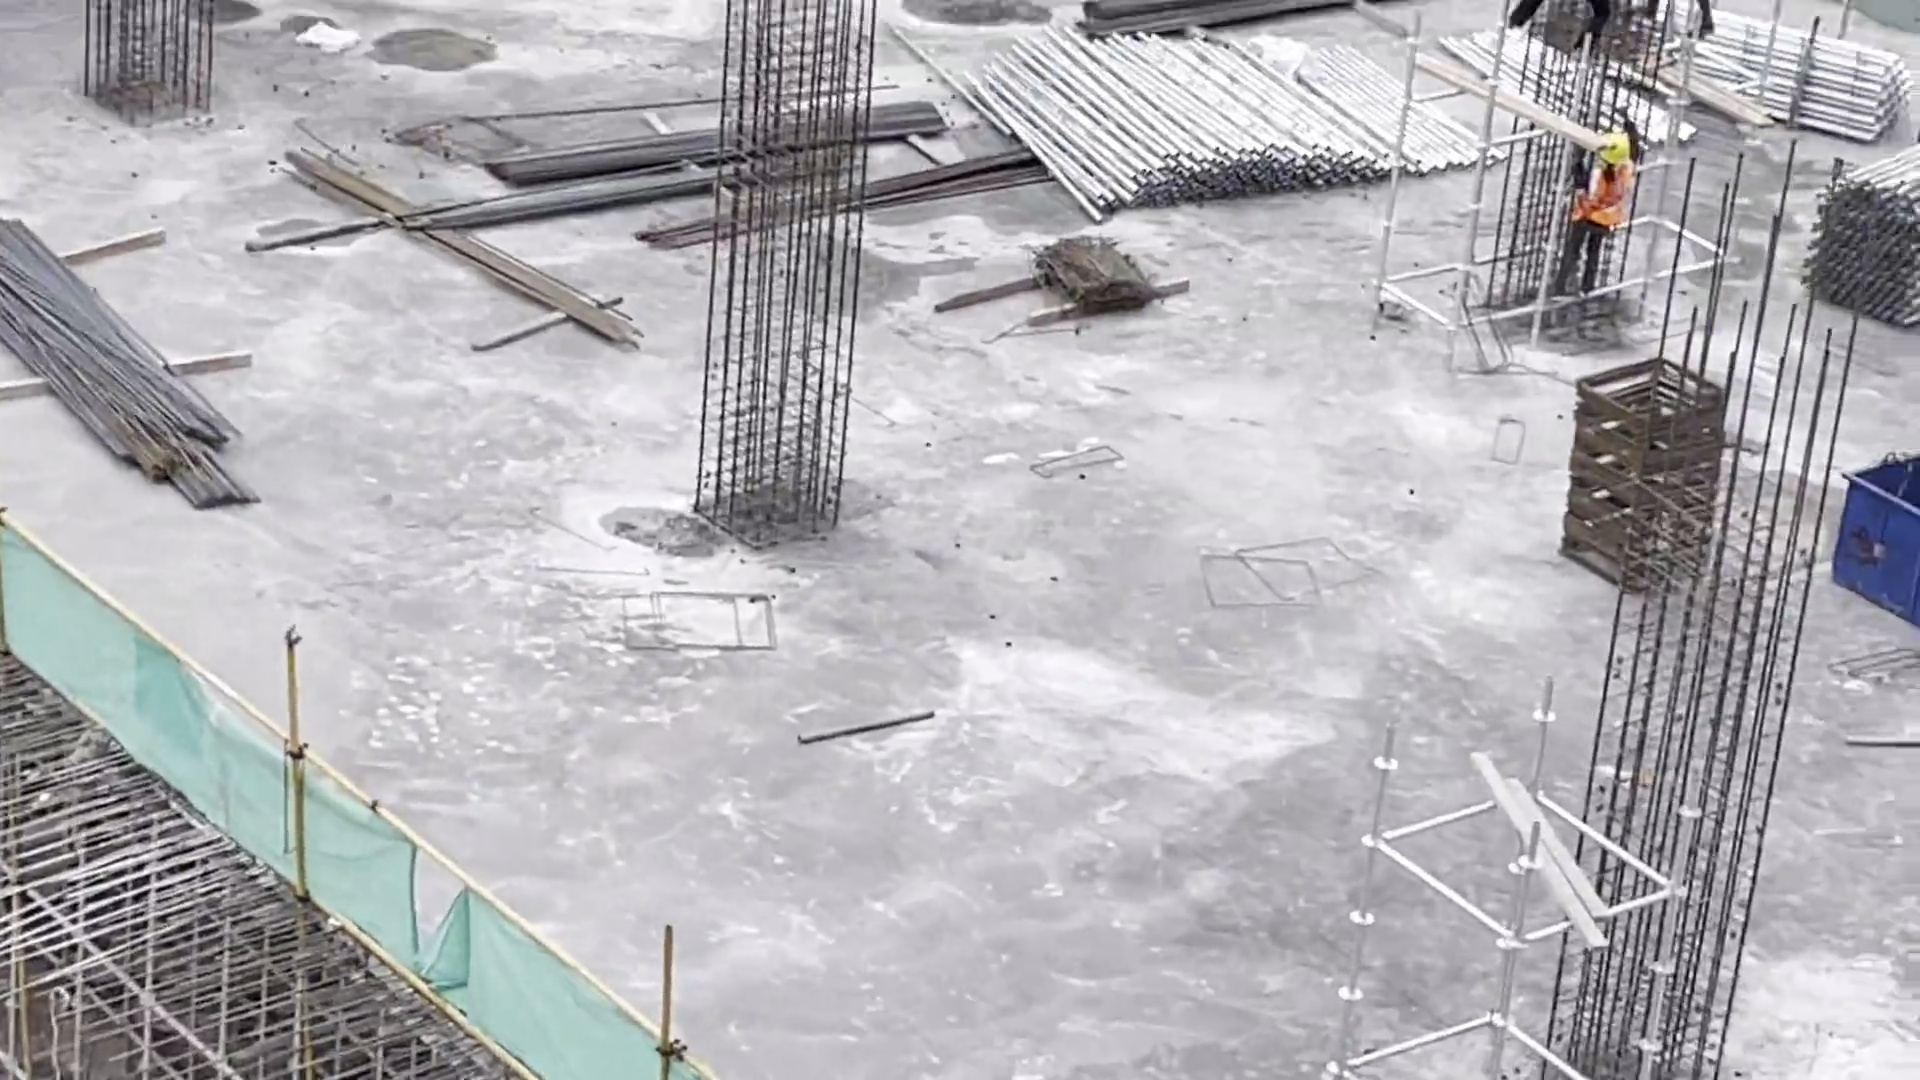helmet: (1593, 139, 1636, 163)
hopper: (1834, 458, 1920, 631)
person: (1574, 134, 1630, 287)
rebar: (1, 209, 259, 514), (473, 93, 975, 180), (680, 148, 1058, 240), (408, 168, 730, 234)
scaffold: (953, 14, 1503, 191), (1598, 5, 1903, 149), (1807, 148, 1920, 339)
vest: (1587, 157, 1629, 231)
